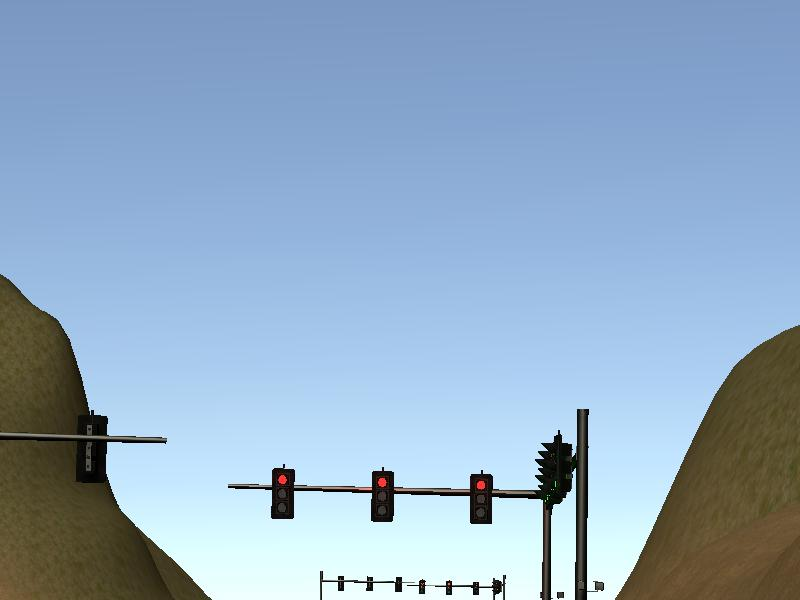red: (271, 466, 295, 519), (370, 469, 394, 522), (469, 472, 493, 525)
